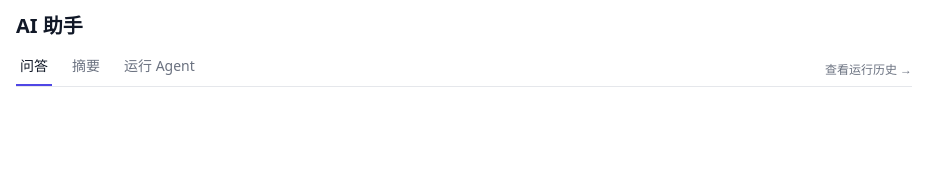
Test: AIPage › Summary tab shows empty state when no runs
What coordinates should you click on to do the following:
click the button "摘要"
I would click on:
 (86, 71)
Its box is left=68, top=56, right=104, bottom=86.
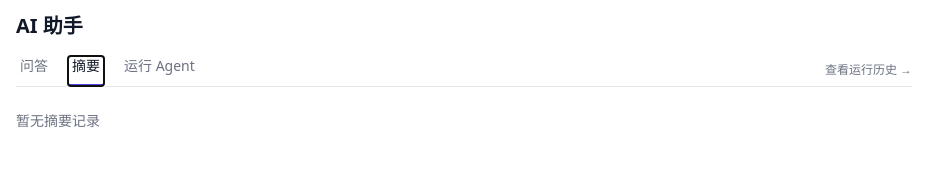
Check: the text "暂无摘要记录" is shown, box left=16, top=111, right=100, bottom=130
